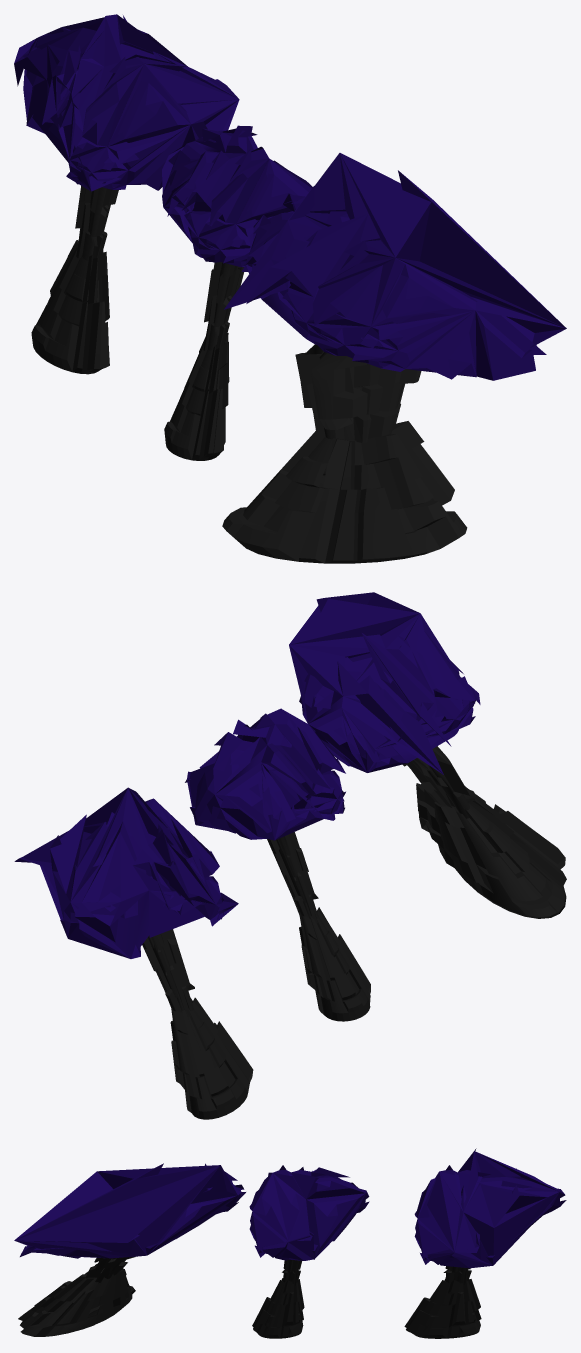
The model's file is treeeee4.FBX.
The picture shows the model from 3 angles, top to bottom: view 1: azimuth 30°, elevation 25°; view 2: azimuth 150°, elevation 25°; view 3: azimuth 270°, elevation 25°; orthographic projection. The views are drawn at different scales.
Parts seen in each view (by area): view 1: BlobMesh002, BlobMesh003, BlobMesh001; view 2: BlobMesh002, BlobMesh003, BlobMesh001; view 3: BlobMesh002, BlobMesh003, BlobMesh001.
Boxes of the visible parts, left/top/right/bottom form: BlobMesh002: left=222, top=153, right=566, bottom=563; BlobMesh003: left=14, top=14, right=239, bottom=374; BlobMesh001: left=162, top=125, right=312, bottom=460; BlobMesh002: left=289, top=592, right=566, bottom=918; BlobMesh003: left=14, top=787, right=253, bottom=1119; BlobMesh001: left=185, top=708, right=370, bottom=1021; BlobMesh002: left=14, top=1163, right=245, bottom=1336; BlobMesh003: left=404, top=1148, right=566, bottom=1338; BlobMesh001: left=249, top=1165, right=369, bottom=1338.
Bounding box in the file's own units: 56 × 62.43 × 150.
